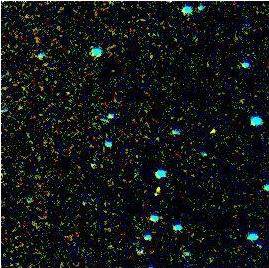star: (146, 173, 176, 203)
